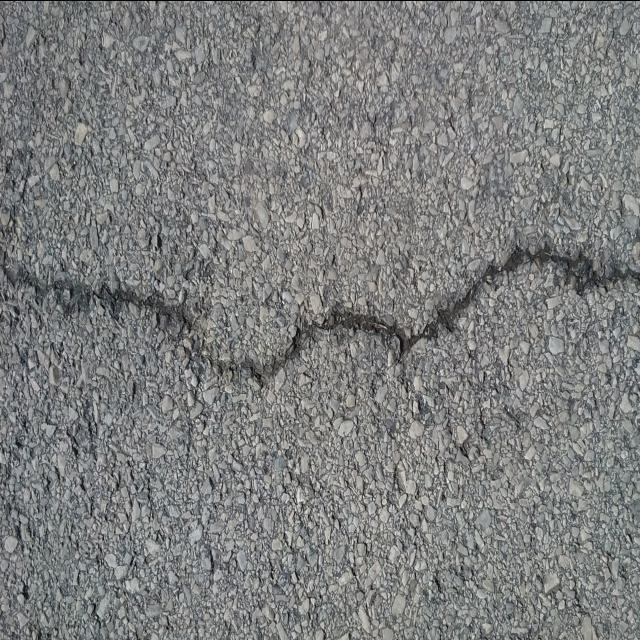Crack: (0, 188, 640, 393)
